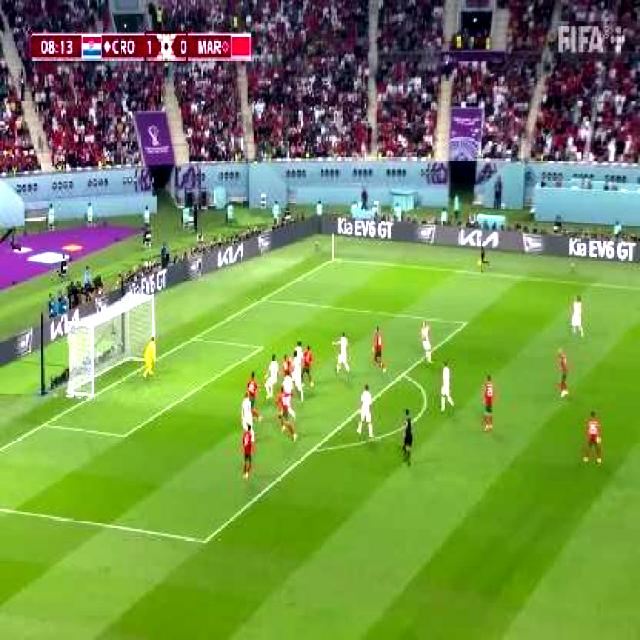bigarea_bottom_inner: (192, 524, 215, 556)
bigarea_top_inner: (457, 311, 472, 332)
bigarea_top_outter: (255, 289, 271, 308)
bottom_arc_area_intersection: (303, 436, 322, 462)
corner: (325, 252, 340, 266)
smallarea_bottom_inner: (114, 420, 135, 449)
smallarea_bottom_outter: (34, 411, 52, 435)
smallarea_top_inner: (252, 335, 271, 360)
smallarea_top_outter: (186, 326, 203, 348)
top_arc_area_intersection: (394, 362, 411, 384)
